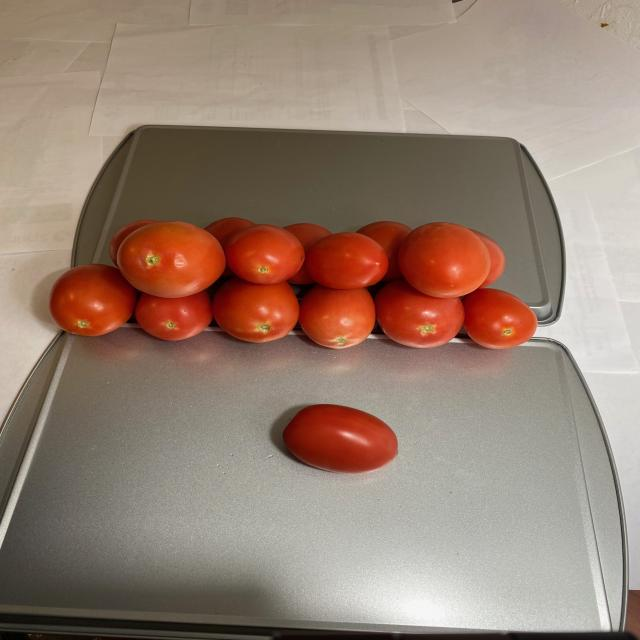tomato: (46, 218, 546, 348), (277, 402, 402, 476)
